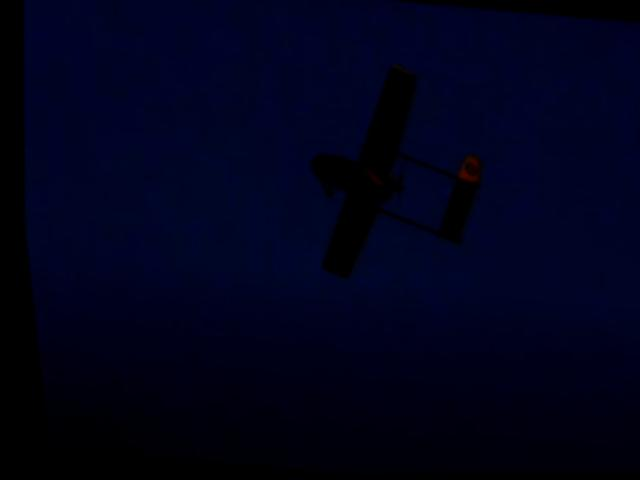iha: (283, 52, 505, 297)
